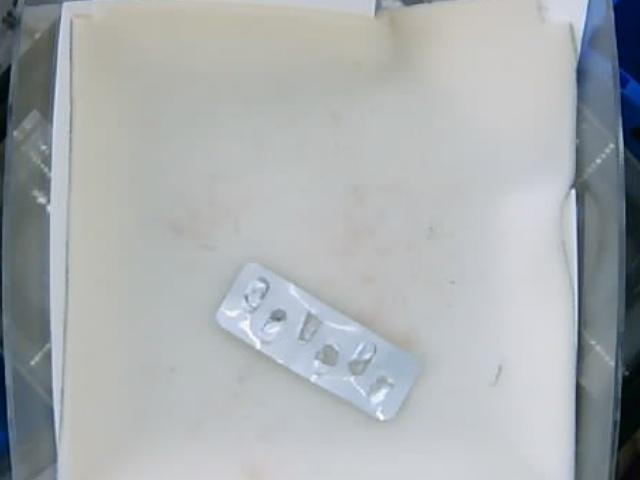Medicine: (218, 259, 423, 419)
